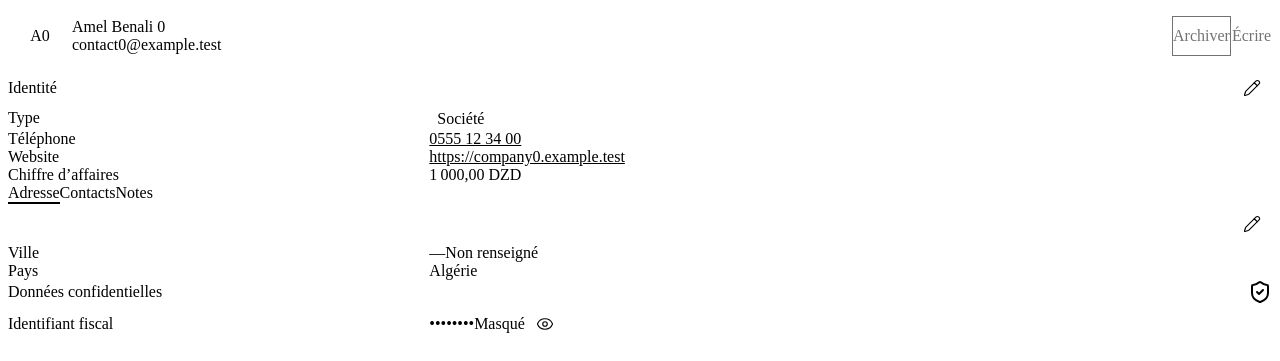
Scenario: FormView: confidential data › says so when the value could not be shown
Click the button named "Afficher : Identifiant fiscal".
click(545, 324)  # box x1=525 y1=304 x2=565 y2=344
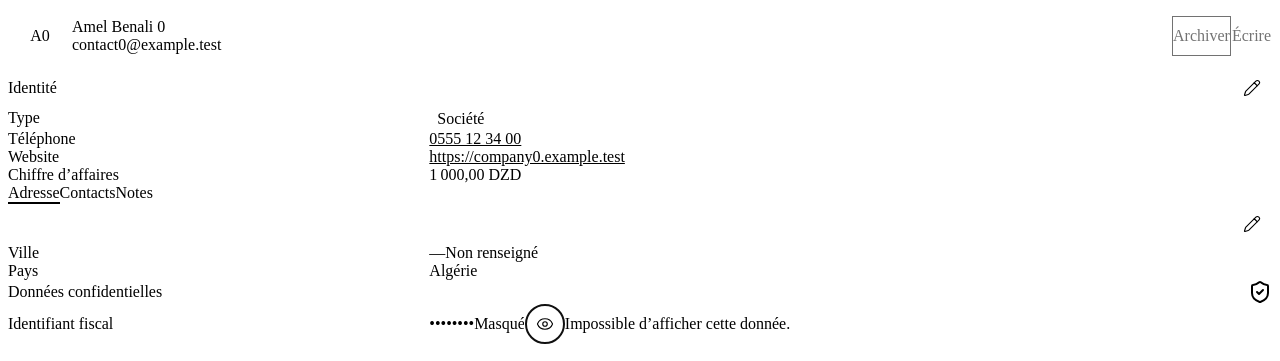
Expected: the message reads "Impossible d’afficher cette donnée.", x1=565 y1=315 x2=790 y2=332
